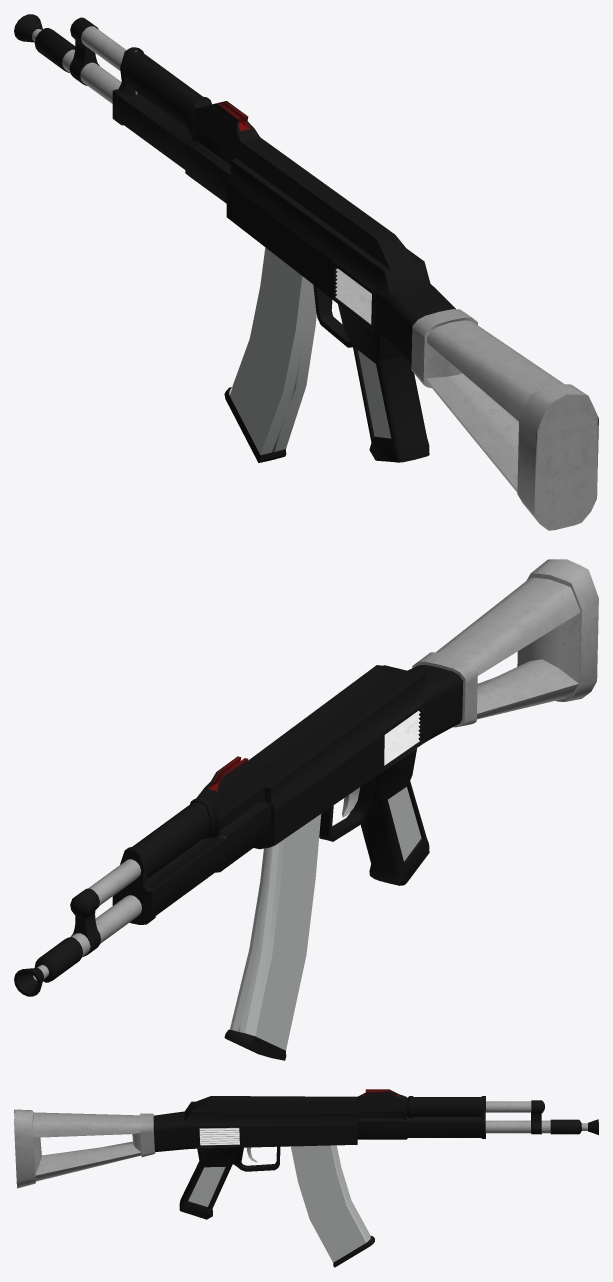
File: mashinegun.fbx
3 views of the same model, one above another, from view 1: azimuth 30°, elevation 25°; view 2: azimuth 150°, elevation 25°; view 3: azimuth 270°, elevation 25° (orthographic). The views are drawn at different scales.
Visible parts, largest first — view 1: Plane; view 2: Plane; view 3: Plane.
Boxes of the visible parts, x1,y1,x2,y2 form: Plane: (14, 14, 598, 530); Plane: (14, 559, 598, 1060); Plane: (14, 1089, 598, 1267).
Size of the model in its own units: 16.62 by 81.33 by 248.
1 material, 1 textured.
